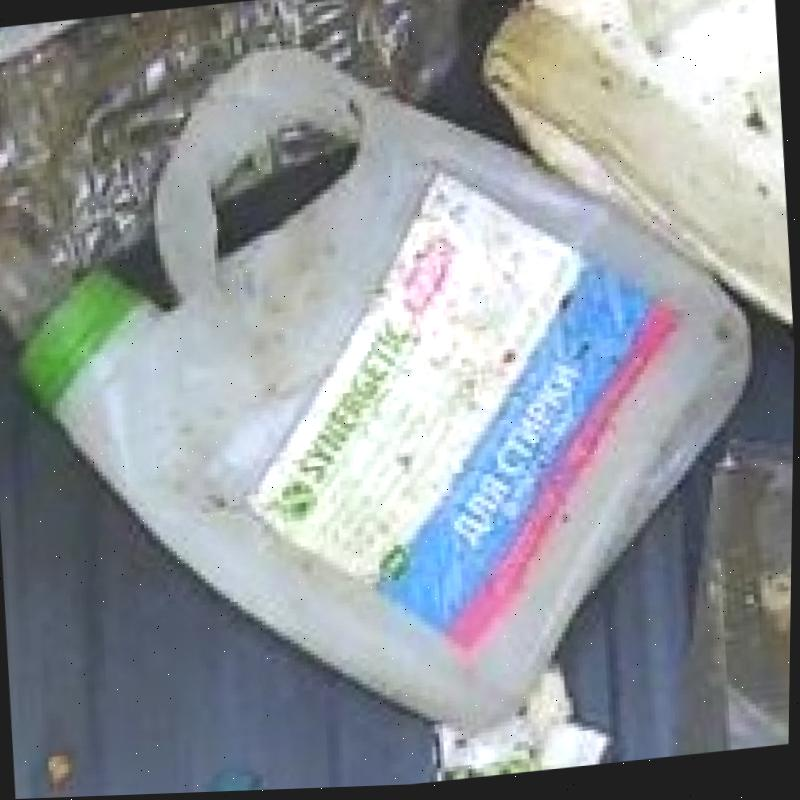botella: (0, 0, 549, 337)
